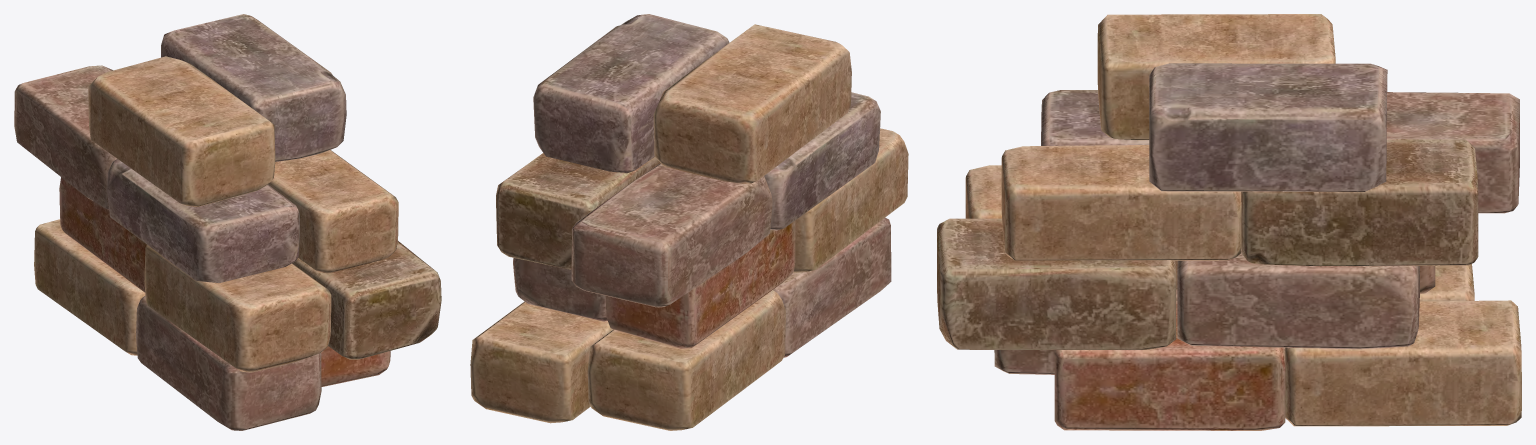
3 views of the same model, side by side, from view 1: azimuth 30°, elevation 25°; view 2: azimuth 150°, elevation 25°; view 3: azimuth 270°, elevation 25° (orthographic). The views are drawn at different scales.
Parts seen in each view (by area): view 1: SM_Human_Ruins_Brick_Dmg_06_LOD0; view 2: SM_Human_Ruins_Brick_Dmg_06_LOD0; view 3: SM_Human_Ruins_Brick_Dmg_06_LOD0.
Boxes of the visible parts, x1=… form: SM_Human_Ruins_Brick_Dmg_06_LOD0: x1=14, y1=14, x2=441, y2=430; SM_Human_Ruins_Brick_Dmg_06_LOD0: x1=470, y1=14, x2=908, y2=430; SM_Human_Ruins_Brick_Dmg_06_LOD0: x1=937, y1=14, x2=1521, y2=430.
Size of the model in its own units: 0.3689 by 0.4699 by 0.7871.
Materials: 1 (1 with a texture image).
